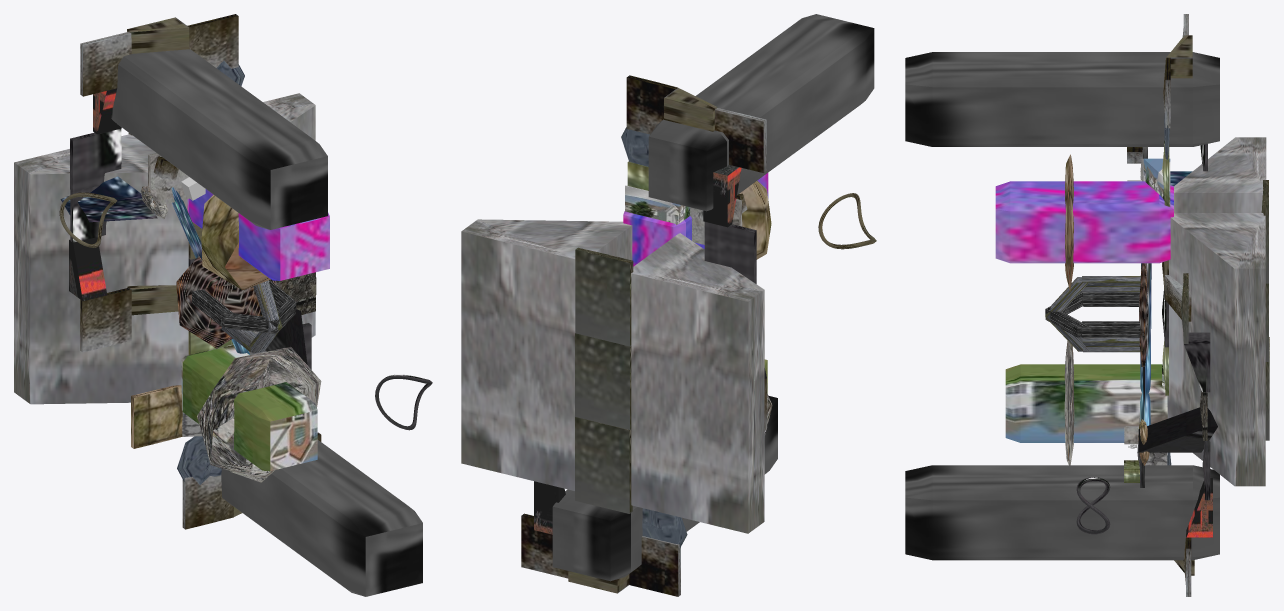
The model's file is asizing7.glb.
The picture shows the model from 3 angles, left to right: view 1: azimuth 30°, elevation 25°; view 2: azimuth 150°, elevation 25°; view 3: azimuth 270°, elevation 25°; orthographic projection. The views are drawn at different scales.
Parts seen in each view (by area): view 1: Cube.011, Cube.042, Cube.043, Cube.005, Sphere.001, Cube.012, Sphere, Sphere.002, Cube.004, Cube.026, Cube.034, Cube.033 (+18 smaller); view 2: Cube.011, Cube.010, Cube.042, Cube.043, Cube.031, Cube.029, Cube.030, Cube.033, Cube.034, Cube.037, Cube.036, Cube.012 (+12 smaller); view 3: Cube.042, Cube.043, Cube.010, Cube.012, Cube.005, Cube.011, Cube.021, Cube.022, Cube.009, Cube.007, Cylinder, Sphere.002 (+9 smaller).
Boxes of the visible parts, x1,y1,x2,y2 form: Cube.011: [14, 134, 188, 404]; Cube.042: [111, 49, 327, 229]; Cube.043: [221, 440, 422, 596]; Cube.005: [181, 344, 317, 471]; Sphere.001: [197, 347, 321, 482]; Cube.012: [187, 189, 329, 280]; Sphere: [176, 256, 276, 348]; Sphere.002: [201, 195, 270, 290]; Cube.004: [131, 385, 182, 448]; Cube.026: [80, 287, 131, 352]; Cube.034: [70, 128, 121, 191]; Cube.033: [80, 31, 131, 96]; Cube.011: [631, 233, 764, 533]; Cube.010: [461, 219, 632, 490]; Cube.042: [648, 14, 874, 211]; Cube.043: [552, 395, 777, 581]; Cube.031: [575, 247, 633, 346]; Cube.029: [575, 417, 632, 513]; Cube.030: [575, 333, 631, 429]; Cube.033: [715, 108, 766, 172]; Cube.034: [704, 222, 756, 282]; Cube.037: [629, 536, 680, 596]; Cube.036: [626, 75, 677, 134]; Cube.012: [623, 173, 768, 266]; Cube.042: [905, 52, 1219, 146]; Cube.043: [905, 465, 1219, 560]; Cube.010: [1164, 213, 1265, 486]; Cube.012: [995, 181, 1173, 263]; Cube.005: [1005, 364, 1167, 442]; Cube.011: [1174, 137, 1266, 212]; Cube.021: [1045, 276, 1140, 352]; Cube.022: [1045, 291, 1140, 337]; Cube.009: [1138, 407, 1217, 452]; Cube.007: [1184, 332, 1210, 392]; Cylinder: [1140, 263, 1151, 425]; Sphere.002: [1065, 154, 1073, 291].
Size of the model in its own units: 224 by 295 by 205.
35 materials, 35 textured.
